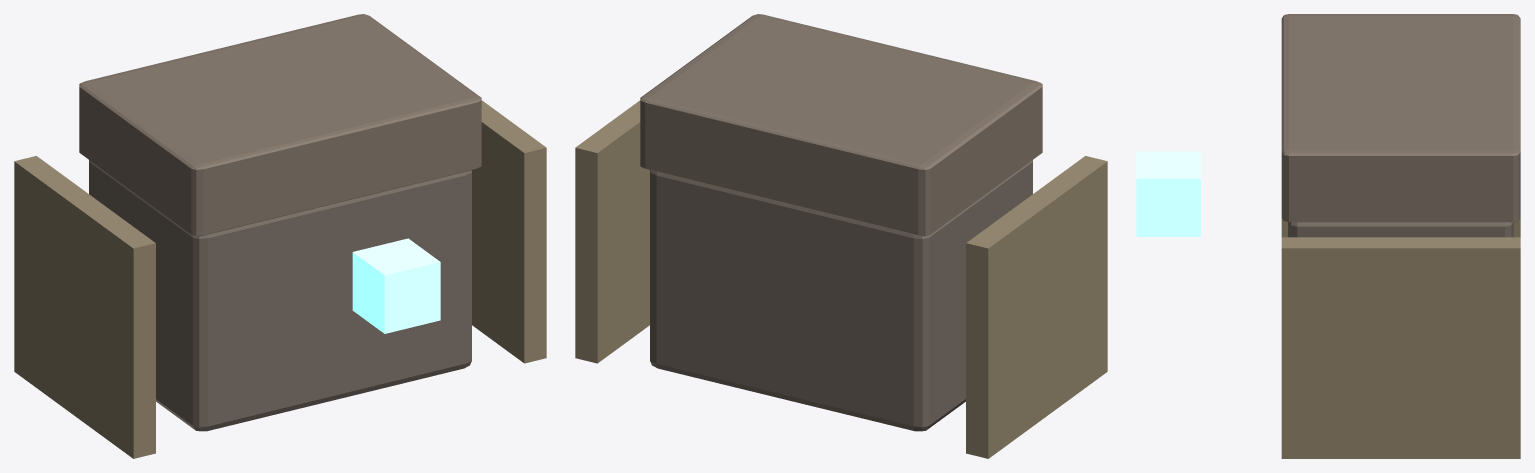
File: loot_chest.glb
3 renders of one model, left to right at view 1: azimuth 30°, elevation 25°; view 2: azimuth 150°, elevation 25°; view 3: azimuth 270°, elevation 25°, orthographic.
Parts seen in each view (by area): view 1: ChestLid, ChestBase, Band_-0.35, Band_0.35, Clasp; view 2: ChestBase, ChestLid, Band_-0.35, Band_0.35; view 3: Band_0.35, ChestLid, Clasp, ChestBase.
Part boxes in pixels (x1,y1,x2,y2): ChestLid: (79,14,481,236); ChestBase: (89,160,471,431); Band_-0.35: (14,156,155,458); Band_0.35: (472,100,546,363); Clasp: (352,238,440,333); ChestBase: (650,160,1032,431); ChestLid: (640,14,1042,236); Band_-0.35: (966,156,1107,458); Band_0.35: (575,100,649,363); Band_0.35: (1281,237,1520,458); ChestLid: (1281,14,1520,222); Clasp: (1136,151,1200,236); ChestBase: (1288,222,1513,237).
Bounding box in the file's own units: 0.74 × 0.47 × 0.595.
